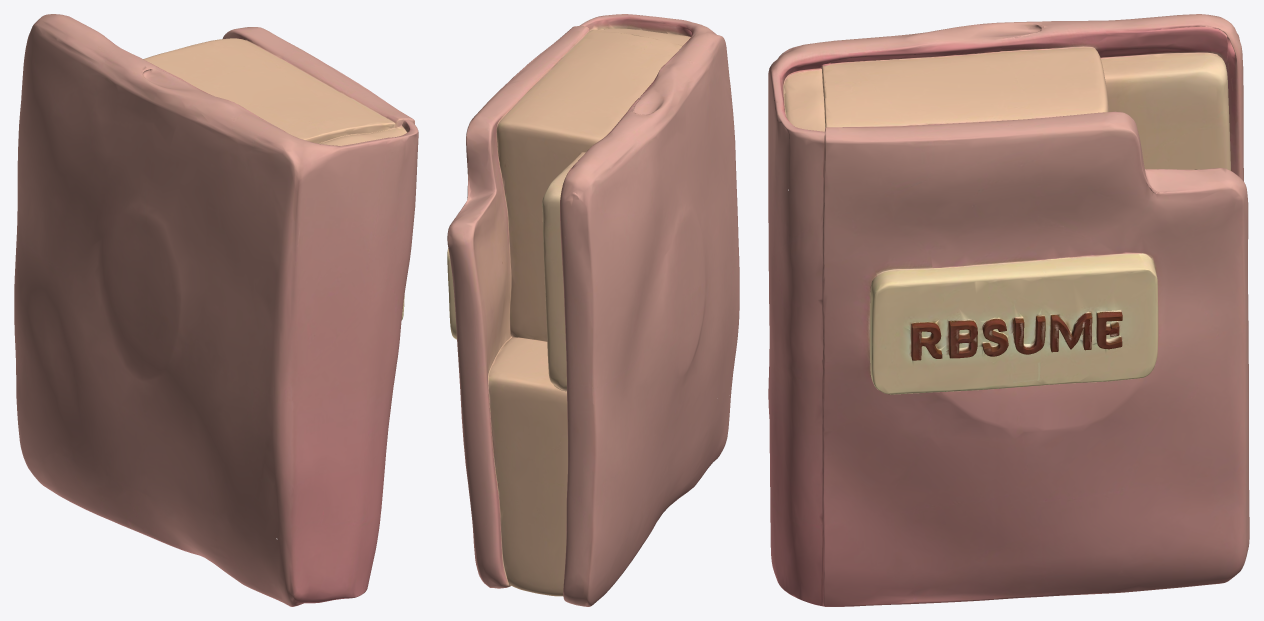
File: folders-2dc1c5c1589e.glb
3 views of the same model, side by side, from view 1: azimuth 30°, elevation 25°; view 2: azimuth 150°, elevation 25°; view 3: azimuth 270°, elevation 25° (orthographic). The views are drawn at different scales.
Visible parts, largest first — view 1: tripo_node_cba8b7d7-6c40-4cfc-ac64-e98cd9d18754; view 2: tripo_node_cba8b7d7-6c40-4cfc-ac64-e98cd9d18754; view 3: tripo_node_cba8b7d7-6c40-4cfc-ac64-e98cd9d18754.
Part boxes in pixels (x1,y1,x2,y2): tripo_node_cba8b7d7-6c40-4cfc-ac64-e98cd9d18754: [14, 14, 418, 606]; tripo_node_cba8b7d7-6c40-4cfc-ac64-e98cd9d18754: [447, 14, 739, 606]; tripo_node_cba8b7d7-6c40-4cfc-ac64-e98cd9d18754: [768, 14, 1249, 606].
Bounding box in the file's own units: 0.5068 × 0.9797 × 0.8205.
1 material, 1 textured.
